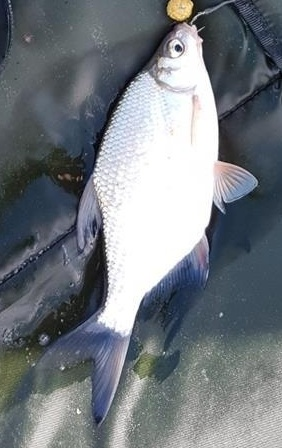Blicca bjoerkna: (20, 20, 262, 428)
